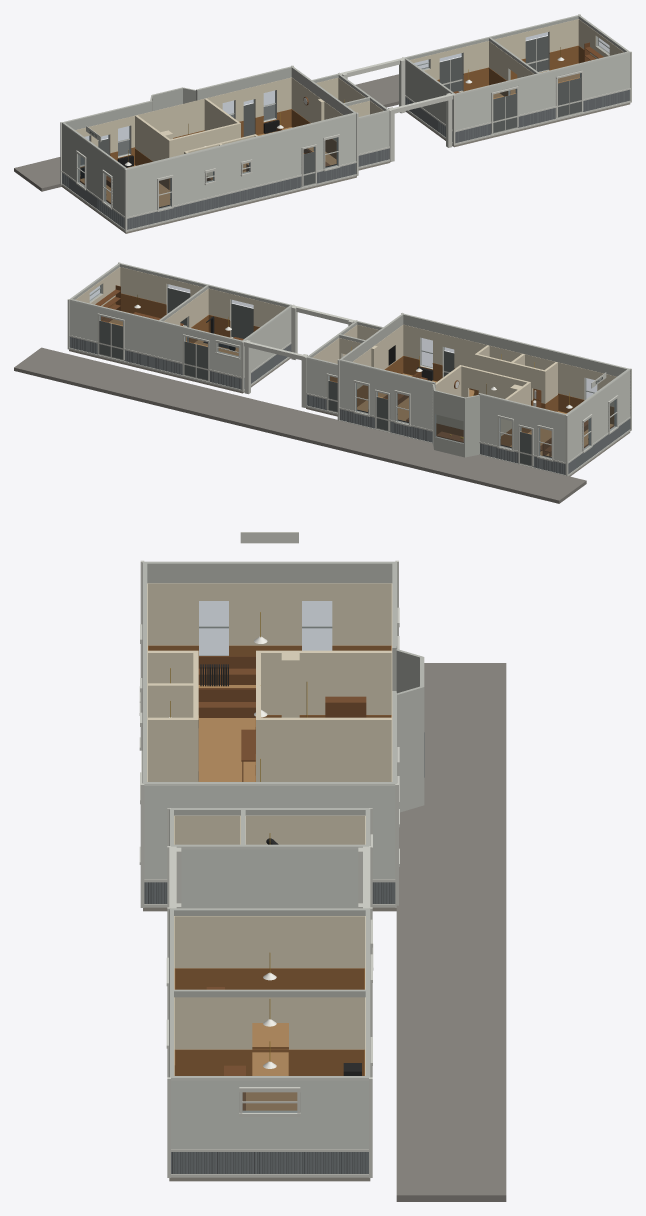
The model's file is Sparta_Depot_cutaway.glb.
3 renders of one model, top to bottom at view 1: azimuth 30°, elevation 25°; view 2: azimuth 150°, elevation 25°; view 3: azimuth 270°, elevation 25°, orthographic. The views are drawn at different scales.
Parts seen in each view (by area): view 1: walls, plaster, trim, wainscot, doors, v_ceiling, glass, platform, sash, foundation, floor, oak (+1 smaller); view 2: walls, platform, plaster, trim, wainscot, doors, glass, v_ceiling, sash, oak, floor, foundation (+1 smaller); view 3: plaster, platform, walls, v_ceiling, trim, floor, wainscot, oak, glass, sash, foundation, iron.
Boxes of the visible parts, box(x1,y1,x2,y2) form: walls: box(62, 15, 629, 216); plaster: box(75, 19, 623, 177); trim: box(60, 14, 631, 232); wainscot: box(62, 89, 629, 229); doors: box(89, 36, 581, 185); v_ceiling: box(80, 45, 596, 199); glass: box(78, 32, 609, 209); platform: box(14, 67, 428, 191); sash: box(76, 37, 609, 211); foundation: box(61, 102, 630, 233); floor: box(80, 63, 579, 206); oak: box(80, 42, 603, 203); walls: box(69, 263, 630, 466); platform: box(14, 347, 586, 503); plaster: box(75, 267, 616, 438); trim: box(67, 262, 631, 476); wainscot: box(69, 337, 630, 474); doors: box(99, 288, 602, 465); glass: box(90, 284, 616, 458); v_ceiling: box(101, 293, 614, 446); sash: box(89, 285, 618, 461); oak: box(95, 285, 614, 456); floor: box(109, 312, 613, 456); foundation: box(69, 349, 630, 476); plaster: box(147, 583, 392, 1075); platform: box(396, 663, 506, 1201); walls: box(142, 561, 424, 1148); v_ceiling: box(148, 645, 391, 1075); trim: box(140, 532, 399, 1177); floor: box(198, 685, 297, 1110); wainscot: box(144, 882, 395, 1173); oak: box(198, 656, 366, 1110); glass: box(199, 601, 424, 1112); sash: box(139, 607, 399, 1116); foundation: box(143, 907, 396, 1181); iron: box(200, 664, 361, 1075).
Bounding box in the file's own units: 1450 × 199 × 422.
